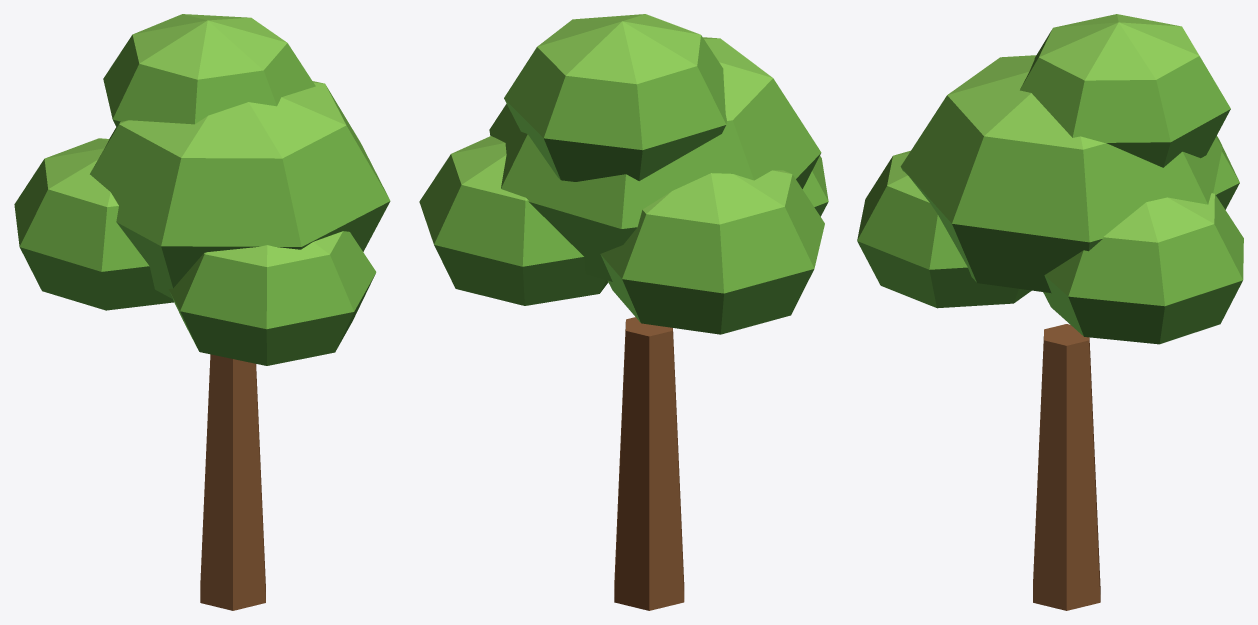
Rendered from tree_oak.glb.
3 renders of one model, left to right at view 1: azimuth 30°, elevation 25°; view 2: azimuth 150°, elevation 25°; view 3: azimuth 270°, elevation 25°, orthographic. The views are drawn at different scales.
Parts seen in each view (by area): view 1: tree_oak; view 2: tree_oak; view 3: tree_oak.
Part boxes in pixels (box(x1,y1,x2,y2)): tree_oak: box(14, 14, 390, 610); tree_oak: box(419, 14, 828, 610); tree_oak: box(857, 14, 1243, 610).
Size of the model in its own units: 0.8038 by 1.21 by 0.7427.
Materials: 1 (1 with a texture image).
